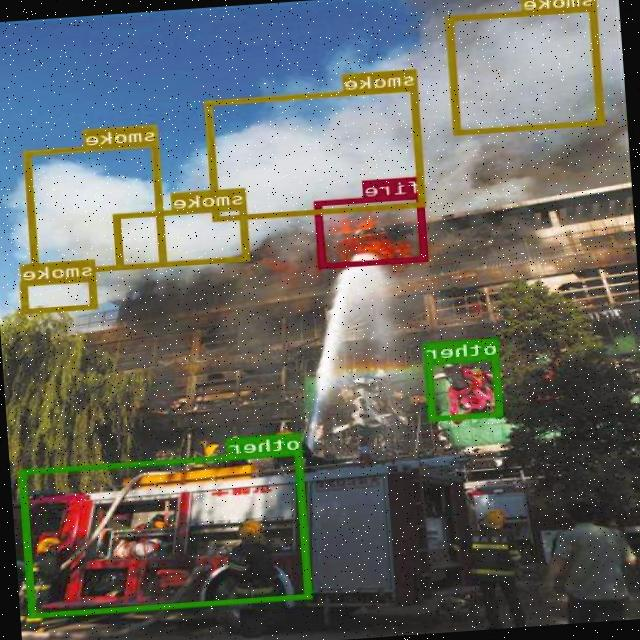fire: (316, 193, 428, 267)
smoke: (206, 85, 427, 220), (448, 5, 604, 134), (24, 141, 168, 274), (114, 204, 251, 268), (21, 275, 98, 312)
